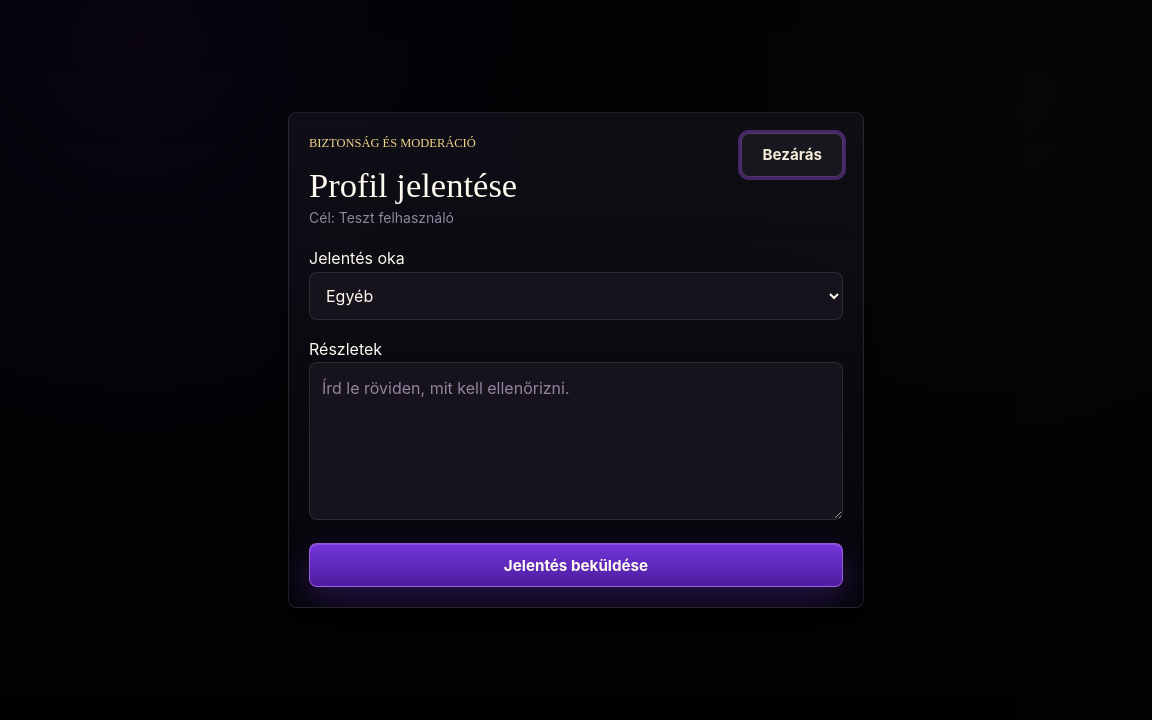
Test: ReportDialog › az ismételt jelentés backendüzenetét magyarul jeleníti meg
This screenshot has width=1152, height=720.
Click the button "Jelentés beküldése": {"x": 576, "y": 565} left=309, top=543, right=843, bottom=587
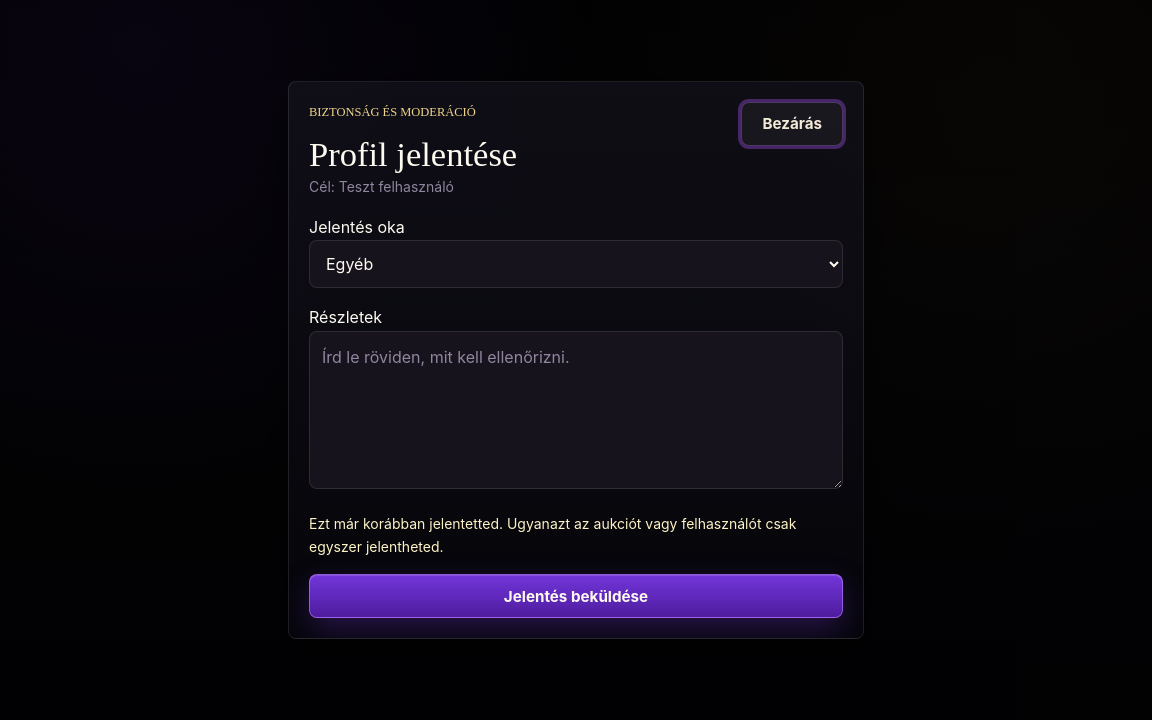
Result: the message shows "Ezt már korábban jelentetted. Ugyanazt az aukciót vagy felhasználót csak egyszer jelentheted." at left=309, top=515, right=796, bottom=555
